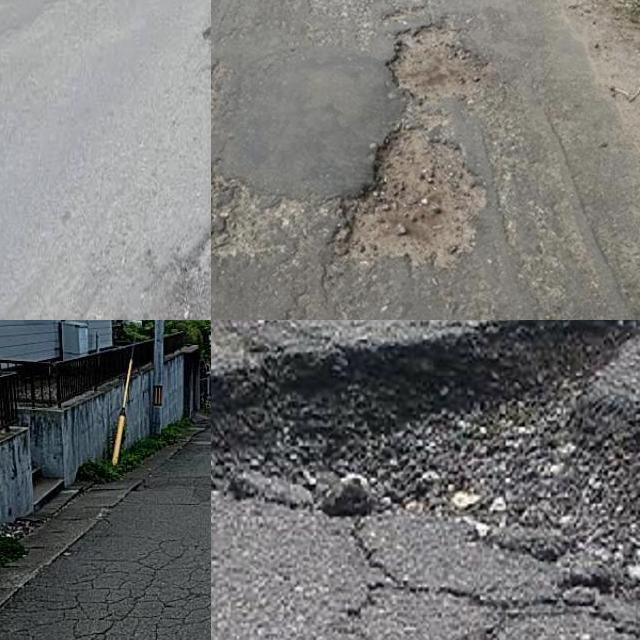Lubang: (211, 320, 640, 600), (343, 26, 492, 262), (168, 224, 211, 320)
Retak Buaya: (3, 535, 211, 640)
